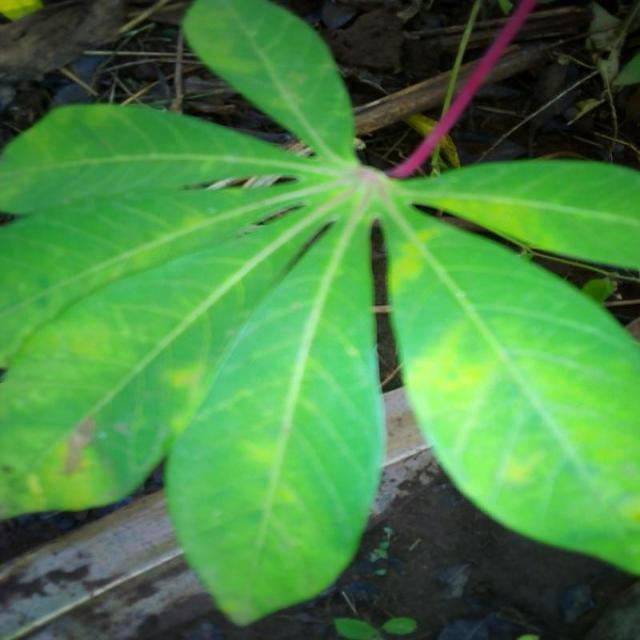cassava leaf: (2, 0, 640, 627), (382, 200, 640, 577), (164, 193, 388, 626)
